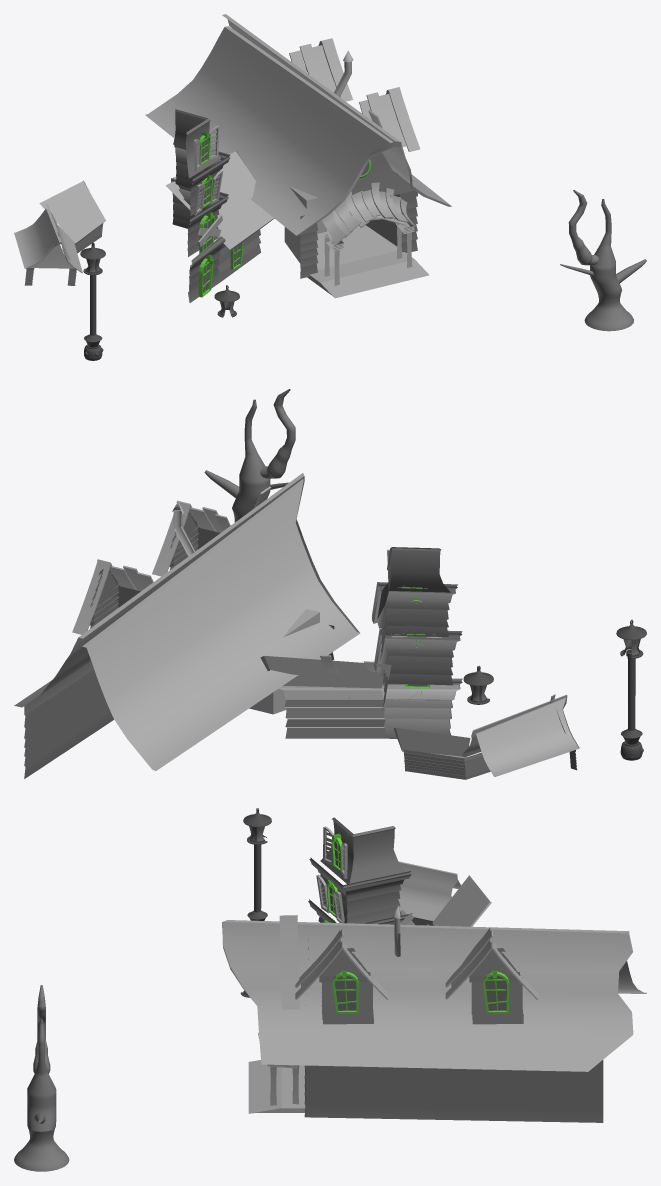
File: big.fbx
3 views of the same model, one above another, from view 1: azimuth 30°, elevation 25°; view 2: azimuth 150°, elevation 25°; view 3: azimuth 270°, elevation 25° (orthographic). The views are drawn at different scales.
Parts seen in each view (by area): view 1: polySurface179, pCube157, tree2, polySurface177, hide_this1, polySurface181, polySurface180, low_house1, big_side_of_house1, mid_low_house1, top_of_house1, pSphere6 (+10 smaller); view 2: polySurface179, polySurface178, big_side_of_house1, polySurface180, mid_low_house1, topmidlle1, tree2, polySurface177, top_of_house1, side_of_house_small1, pSphere6, polySurface181 (+6 smaller); view 3: polySurface179, big_side_of_house1, tree2, top_of_house1, topmidlle1, polySurface180, pCube157, pCube159, pCube158, shingle27, polySurface181, pSphere6 (+3 smaller).
Boxes of the visible parts, <box> form: polySurface179: <box>145,14,451,235</box>; pCube157: <box>284,186,429,298</box>; tree2: <box>560,190,646,331</box>; polySurface177: <box>165,151,274,251</box>; hide_this1: <box>321,182,416,246</box>; polySurface181: <box>39,180,105,244</box>; polySurface180: <box>14,204,82,273</box>; low_house1: <box>188,230,261,302</box>; big_side_of_house1: <box>300,173,417,278</box>; mid_low_house1: <box>171,178,228,256</box>; top_of_house1: <box>173,109,220,178</box>; pSphere6: <box>80,242,105,360</box>; polySurface179: <box>14,473,360,770</box>; polySurface178: <box>279,679,461,738</box>; big_side_of_house1: <box>24,625,334,778</box>; polySurface180: <box>461,694,579,776</box>; mid_low_house1: <box>374,629,462,709</box>; topmidlle1: <box>372,582,457,660</box>; tree2: <box>204,389,295,522</box>; polySurface177: <box>260,656,391,689</box>; top_of_house1: <box>377,547,450,618</box>; side_of_house_small1: <box>403,749,576,779</box>; pSphere6: <box>616,619,646,760</box>; polySurface181: <box>393,727,470,757</box>; polySurface179: <box>222,920,646,1071</box>; big_side_of_house1: <box>304,1060,603,1122</box>; tree2: <box>14,985,69,1171</box>; top_of_house1: <box>320,817,405,884</box>; topmidlle1: <box>309,857,411,923</box>; polySurface180: <box>398,861,460,921</box>; pCube157: <box>248,1060,305,1113</box>; pCube159: <box>469,948,523,1024</box>; pCube158: <box>319,948,373,1024</box>; shingle27: <box>279,915,299,1009</box>; polySurface181: <box>432,875,491,926</box>; pSphere6: <box>243,808,271,920</box>.
Size of the model in its own units: 34.69 by 12.96 by 36.29.
